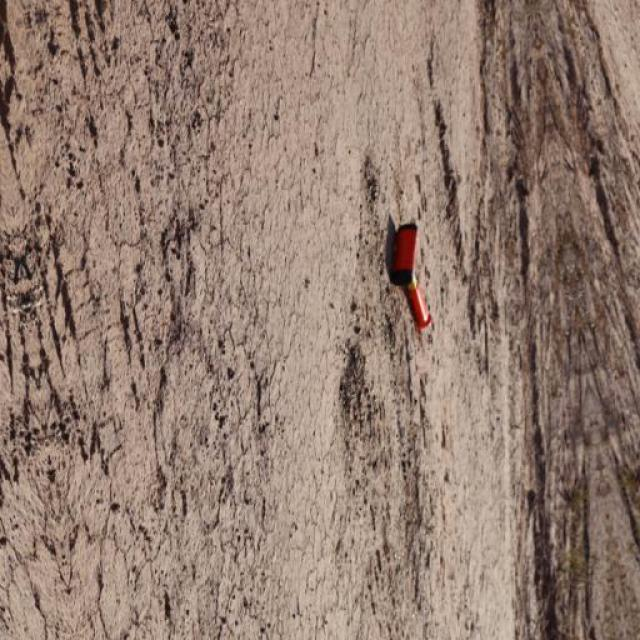mallet: (386, 212, 435, 332)
